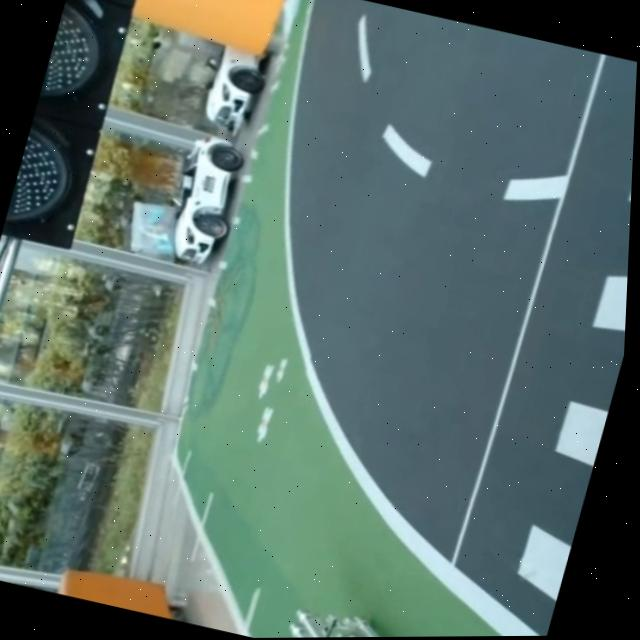traffic-light: (0, 0, 156, 259)
